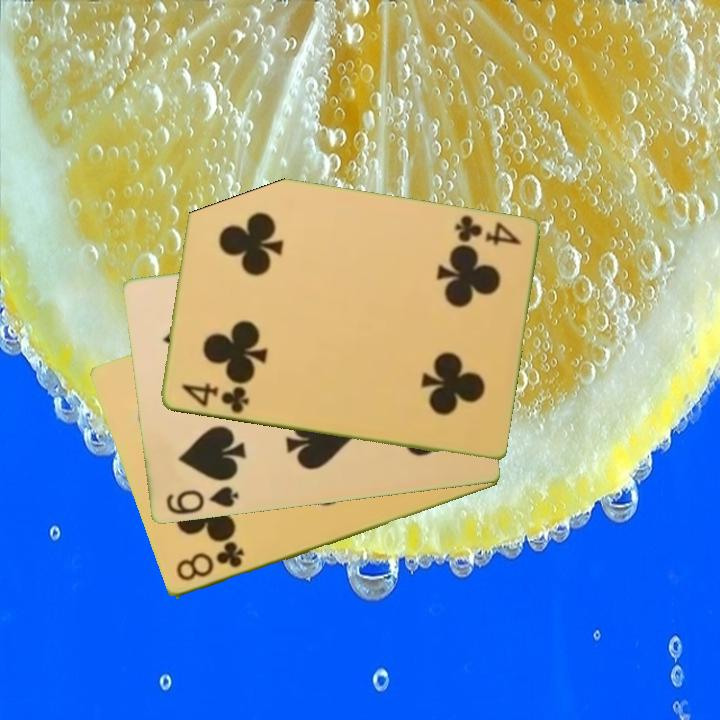4c: (450, 211, 524, 249), (178, 380, 251, 417)
6s: (162, 483, 241, 518)
8c: (172, 539, 247, 585)
